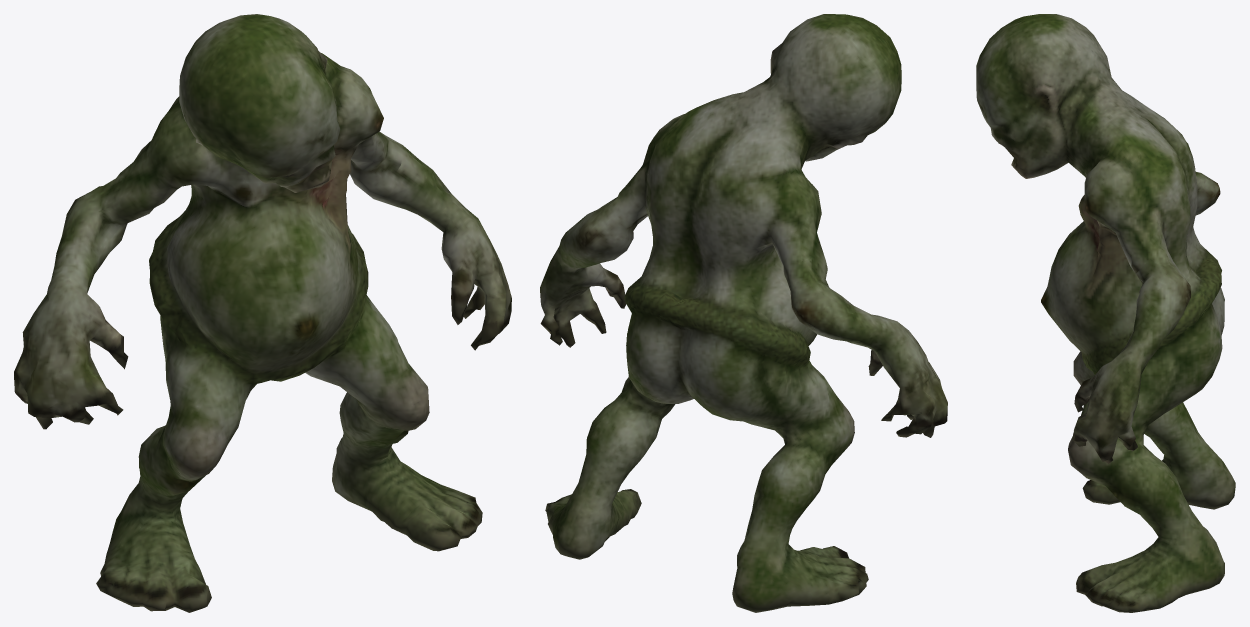
The model's file is drowned_grubling_v1.glb.
3 renders of one model, left to right at view 1: azimuth 30°, elevation 25°; view 2: azimuth 150°, elevation 25°; view 3: azimuth 270°, elevation 25°, orthographic. The views are drawn at different scales.
Parts seen in each view (by area): view 1: grubling; view 2: grubling; view 3: grubling.
Boxes of the visible parts, x1=… form: grubling: x1=14, y1=14, x2=511, y2=612; grubling: x1=540, y1=14, x2=947, y2=612; grubling: x1=976, y1=14, x2=1235, y2=612.
Bounding box in the file's own units: 0.8212 × 1 × 0.4805.
1 material, 1 textured.
